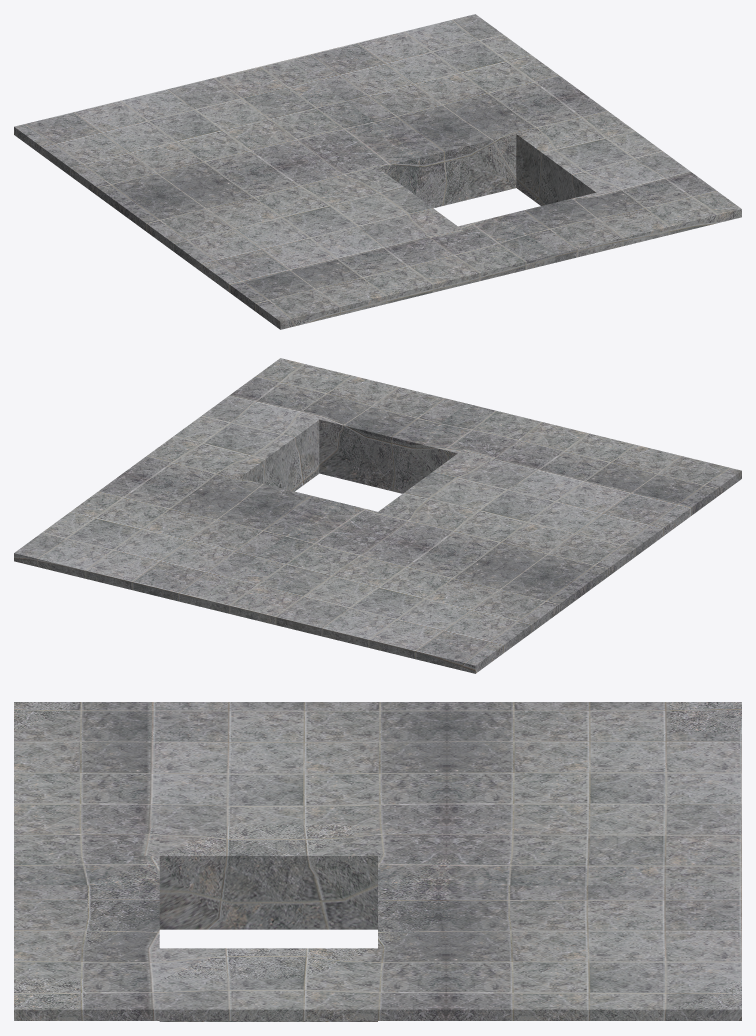
The model's file is RoomTrap1Texture.fbx.
The picture shows the model from 3 angles, top to bottom: view 1: azimuth 30°, elevation 25°; view 2: azimuth 150°, elevation 25°; view 3: azimuth 270°, elevation 25°; orthographic projection. The views are drawn at different scales.
Visible parts, largest first — view 1: pPlane1; view 2: pPlane1; view 3: pPlane1.
Boxes of the visible parts, x1,y1,x2,y2 form: pPlane1: (14,14,741,329); pPlane1: (14,358,741,673); pPlane1: (14,702,741,1021).
Bounding box in the file's own units: 24 × 2.68 × 24.
